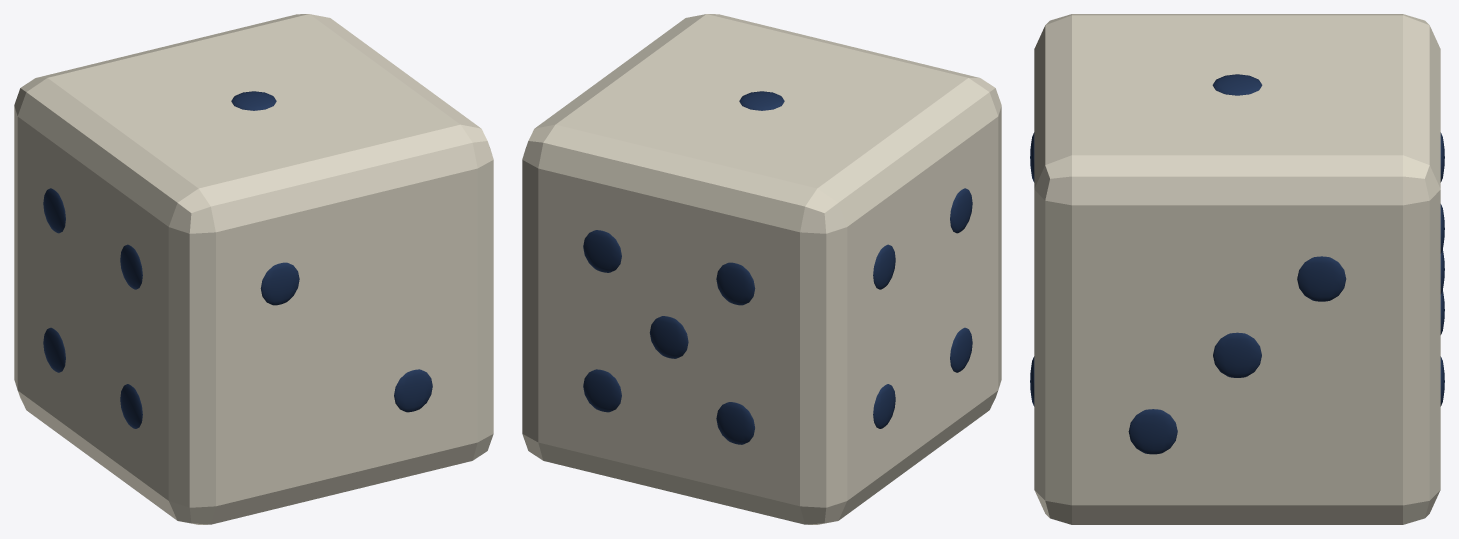
The model's file is lead-die.glb.
The picture shows the model from 3 angles, left to right: view 1: azimuth 30°, elevation 25°; view 2: azimuth 150°, elevation 25°; view 3: azimuth 270°, elevation 25°; orthographic projection. The views are drawn at different scales.
Visible parts, largest first — view 1: Rounded six-sided die, Face 2 pip.001, Face 2 pip, Face 4 pip.002, Face 4 pip, Face 4 pip.003, Face 4 pip.001, Face 1 pip; view 2: Rounded six-sided die, Face 5 pip.003, Face 5 pip.001, Face 5 pip.002, Face 5 pip.004, Face 5 pip, Face 4 pip.003, Face 4 pip.001, Face 4 pip.002, Face 4 pip, Face 1 pip; view 3: Rounded six-sided die, Face 3 pip.002, Face 3 pip, Face 3 pip.001, Face 1 pip.
Part boxes in pixels (left/top/right/bottom): Rounded six-sided die: left=14, top=14, right=493, bottom=524; Face 2 pip.001: left=394, top=369, right=432, bottom=412; Face 2 pip: left=260, top=262, right=299, bottom=305; Face 4 pip.002: left=43, top=188, right=65, bottom=233; Face 4 pip: left=43, top=327, right=65, bottom=372; Face 4 pip.003: left=120, top=244, right=142, bottom=289; Face 4 pip.001: left=120, top=384, right=142, bottom=428; Face 1 pip: left=231, top=91, right=276, bottom=110; Rounded six-sided die: left=522, top=14, right=1001, bottom=524; Face 5 pip.003: left=583, top=369, right=621, bottom=412; Face 5 pip.001: left=716, top=262, right=755, bottom=305; Face 5 pip.002: left=649, top=316, right=688, bottom=358; Face 5 pip.004: left=583, top=230, right=621, bottom=272; Face 5 pip: left=716, top=402, right=754, bottom=444; Face 4 pip.003: left=950, top=188, right=972, bottom=233; Face 4 pip.001: left=950, top=327, right=972, bottom=372; Face 4 pip.002: left=873, top=244, right=895, bottom=289; Face 4 pip: left=873, top=384, right=895, bottom=428; Face 1 pip: left=739, top=91, right=784, bottom=110; Rounded six-sided die: left=1034, top=14, right=1440, bottom=524; Face 3 pip.002: left=1297, top=256, right=1346, bottom=301; Face 3 pip: left=1128, top=409, right=1177, bottom=454; Face 3 pip.001: left=1213, top=332, right=1261, bottom=377; Face 1 pip: left=1212, top=74, right=1262, bottom=95.
Bounding box in the file's own units: 1.43 × 1.43 × 1.43.
